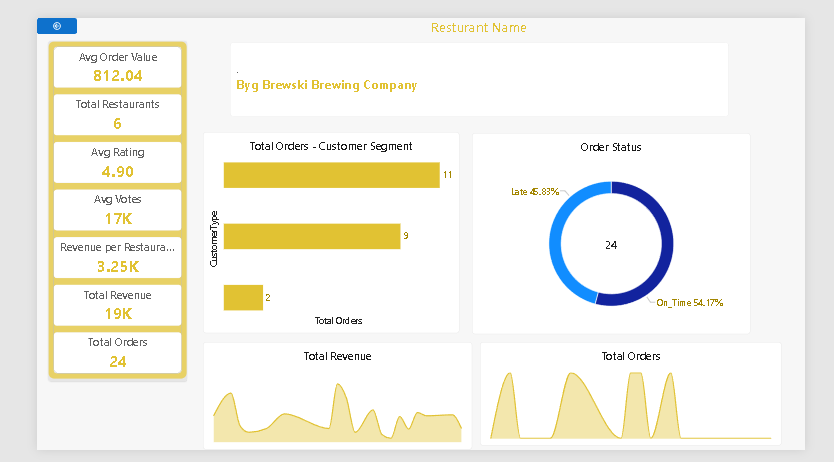

The dashboard page shown, as its layout file describes it:
{"tool":"powerbi","page":{"name":"Resturants Details","canvas":[1920,1080],"ordinal":5},"visuals":[{"type":"cardVisual","fields":{"Data":["Orders.Avg Order Value","Customers.Total Restaurants","Restaurants.Avg Rating","Restaurants.Avg Votes","Restaurants.Revenue per Restaurant","Orders.Total Revenue","Orders.Total Orders"]},"box":[26.4,57.3,348.2,850.8],"z":0},{"type":"cardVisual","title":"Resturant Name","fields":{"Data":["Min(Restaurants.name)"]},"box":[483.1,0,1247.1,246.5],"z":1000},{"type":"lineChart","title":"Total Orders","fields":{"Category":["DateTable.Date.Variation.Date Hierarchy.Year","DateTable.Date.Variation.Date Hierarchy.Month"],"Y":["Orders.Total Orders"]},"box":[1106.4,811.1,754.2,258.8],"z":2000},{"type":"lineChart","title":"Total Revenue","fields":{"Category":["DateTable.Date.Variation.Date Hierarchy.Year","DateTable.Date.Variation.Date Hierarchy.Month"],"Y":["Orders.Total Revenue"]},"box":[414.4,811.1,672.9,268.7],"z":3000},{"type":"barChart","title":"Total Orders - Customer Segment","fields":{"Category":["Customers.CustomerType"],"Y":["Orders.Total Orders"]},"box":[414.1,285.9,640.8,502.8],"z":4000},{"type":"actionButton","box":[0,0,100,40],"z":5000},{"type":"donutChart","title":"Order Status","fields":{"Category":["Orders.Delivery_Status"],"Y":["Orders.Total Orders"]},"box":[1086.6,286.5,696.5,502.5],"z":6000}]}

Visuals, with their boxes in screenshot pixels (x1, y1, x2, y2), scaled from the page's 1920x1080 canvas onto the 834x462 screenshot:
cardVisual - Orders.Avg Order Value x Customers.Total Restaurants: bbox=[11, 25, 163, 388]
"Resturant Name" cardVisual: bbox=[210, 0, 752, 105]
"Total Orders" lineChart: bbox=[481, 347, 808, 458]
"Total Revenue" lineChart: bbox=[180, 347, 472, 461]
"Total Orders - Customer Segment" barChart: bbox=[180, 122, 458, 337]
actionButton: bbox=[0, 0, 43, 17]
"Order Status" donutChart: bbox=[472, 123, 775, 338]
